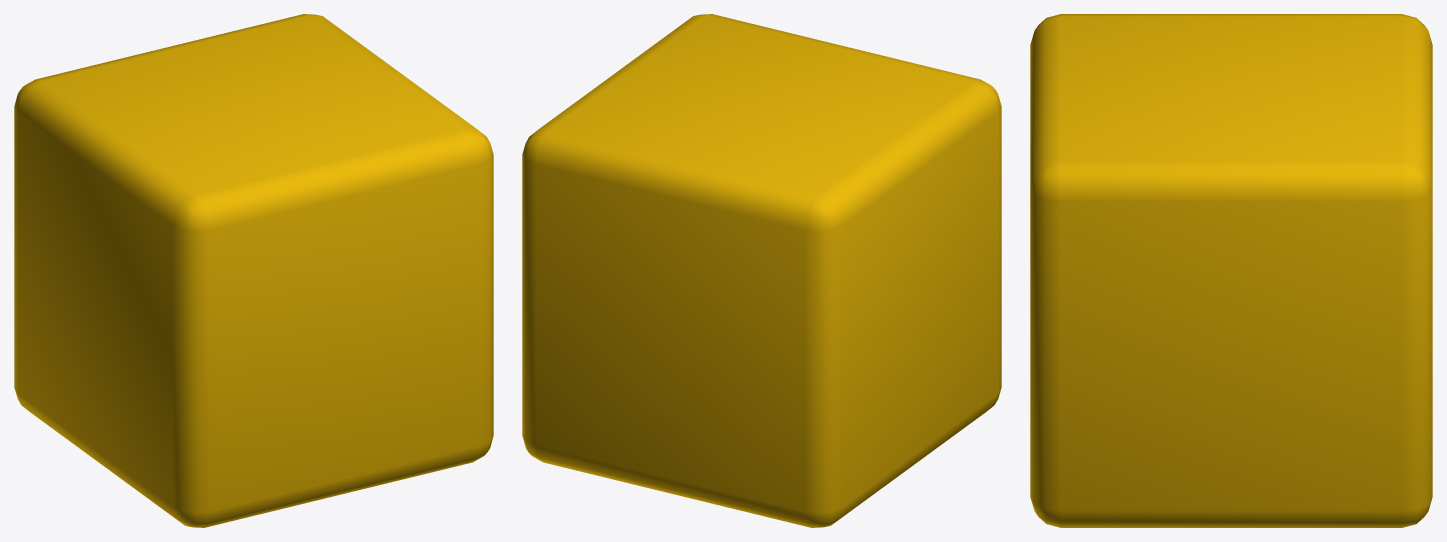
The model's file is playerkübü - Kopya.fbx.
The picture shows the model from 3 angles, left to right: view 1: azimuth 30°, elevation 25°; view 2: azimuth 150°, elevation 25°; view 3: azimuth 270°, elevation 25°; orthographic projection. The views are drawn at different scales.
Parts seen in each view (by area): view 1: Cube; view 2: Cube; view 3: Cube.
Boxes of the visible parts, x1=… form: Cube: x1=14, y1=14, x2=493, y2=527; Cube: x1=522, y1=14, x2=1001, y2=527; Cube: x1=1030, y1=14, x2=1432, y2=527.
Bounding box in the file's own units: 200 × 200 × 200.
